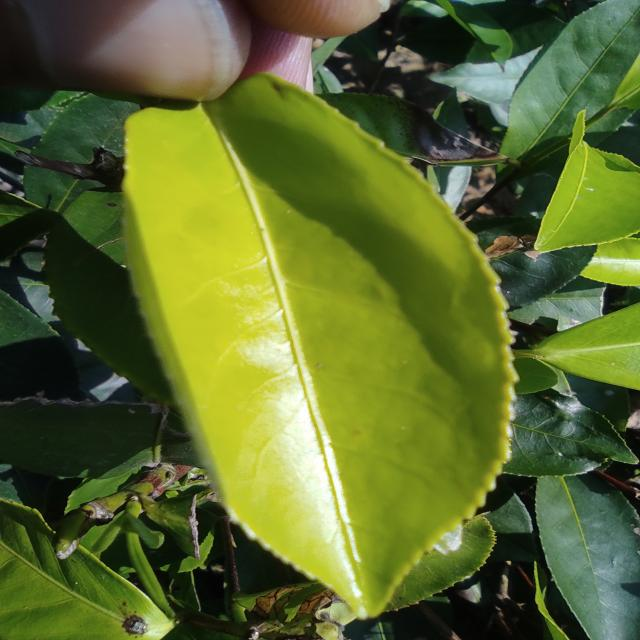Category C(4-7 days): (78, 51, 551, 631)
